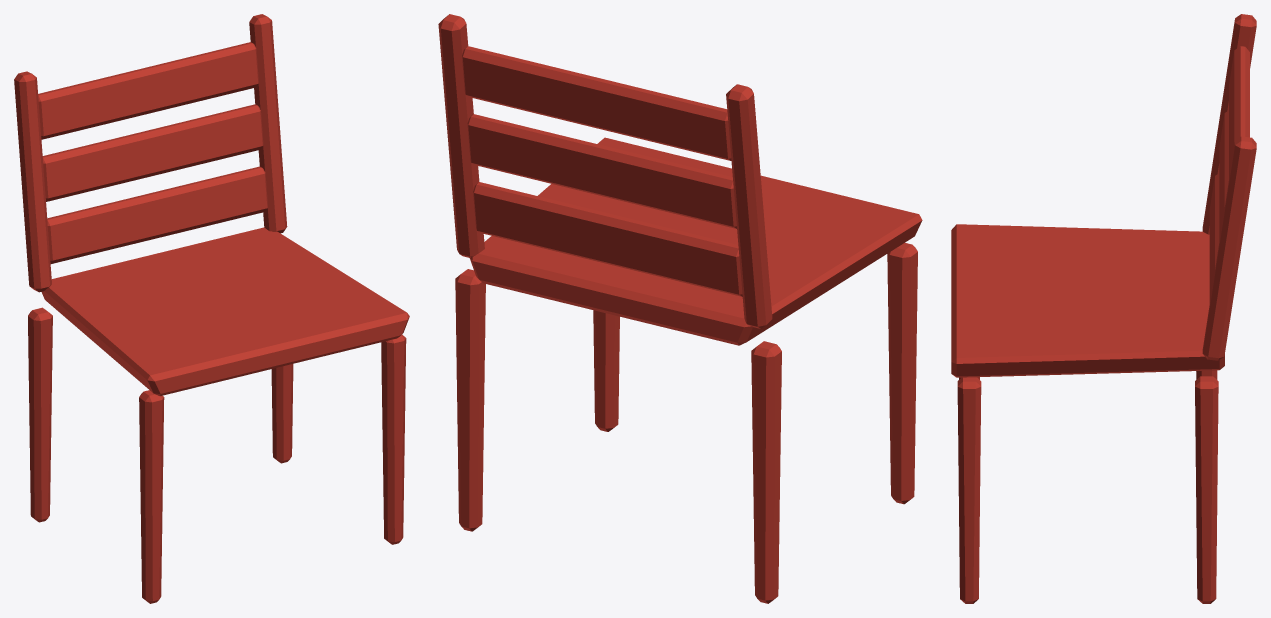
Rendered from StackChair.fbx.
3 renders of one model, left to right at view 1: azimuth 30°, elevation 25°; view 2: azimuth 150°, elevation 25°; view 3: azimuth 270°, elevation 25°, orthographic. The views are drawn at different scales.
Parts seen in each view (by area): view 1: StackChair; view 2: StackChair; view 3: StackChair.
Part boxes in pixels (x1,y1,x2,y2): StackChair: (14,14,409,603); StackChair: (438,14,922,603); StackChair: (951,14,1256,603).
Bounding box in the file's own units: 0.5314 × 0.8374 × 0.5022.
